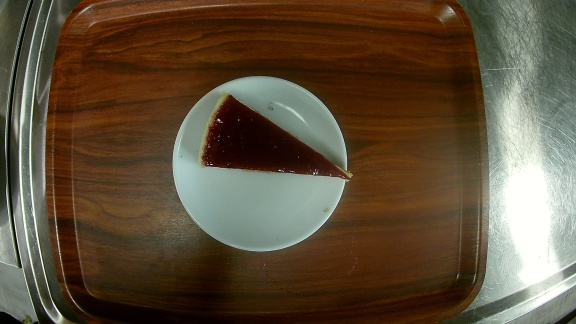frambuazlipasta: (172, 75, 351, 251)
